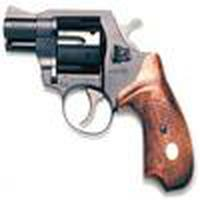gun: (1, 7, 200, 198)
